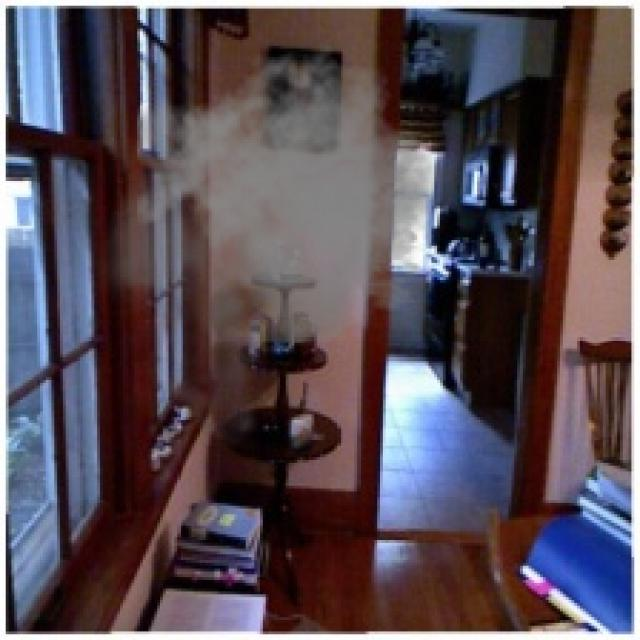smoke: (91, 43, 460, 451)
